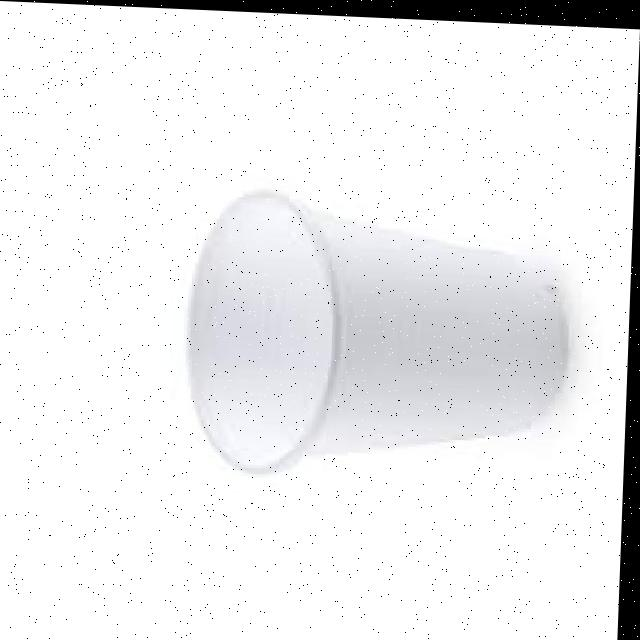cup: (152, 181, 602, 490)
